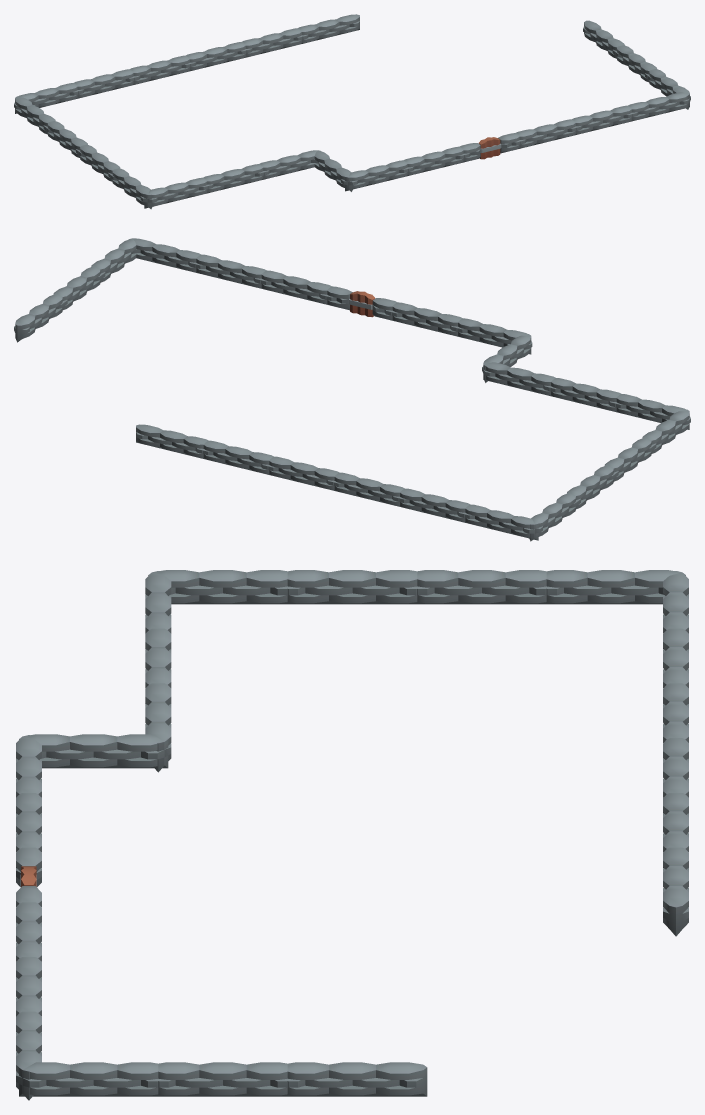
The model's file is Wall.glb.
3 renders of one model, top to bottom at view 1: azimuth 30°, elevation 25°; view 2: azimuth 150°, elevation 25°; view 3: azimuth 270°, elevation 25°, orthographic. The views are drawn at different scales.
Visible parts, largest first — view 1: fence_stone_straight; view 2: fence_stone_straight; view 3: fence_stone_straight.
Part boxes in pixels (x1,y1,x2,y2): fence_stone_straight: (14,14,690,209); fence_stone_straight: (14,238,690,541); fence_stone_straight: (16,570,688,1100).
Size of the model in its own units: 36.8 by 1.19 by 20.8.
Materials: 1 (1 with a texture image).
